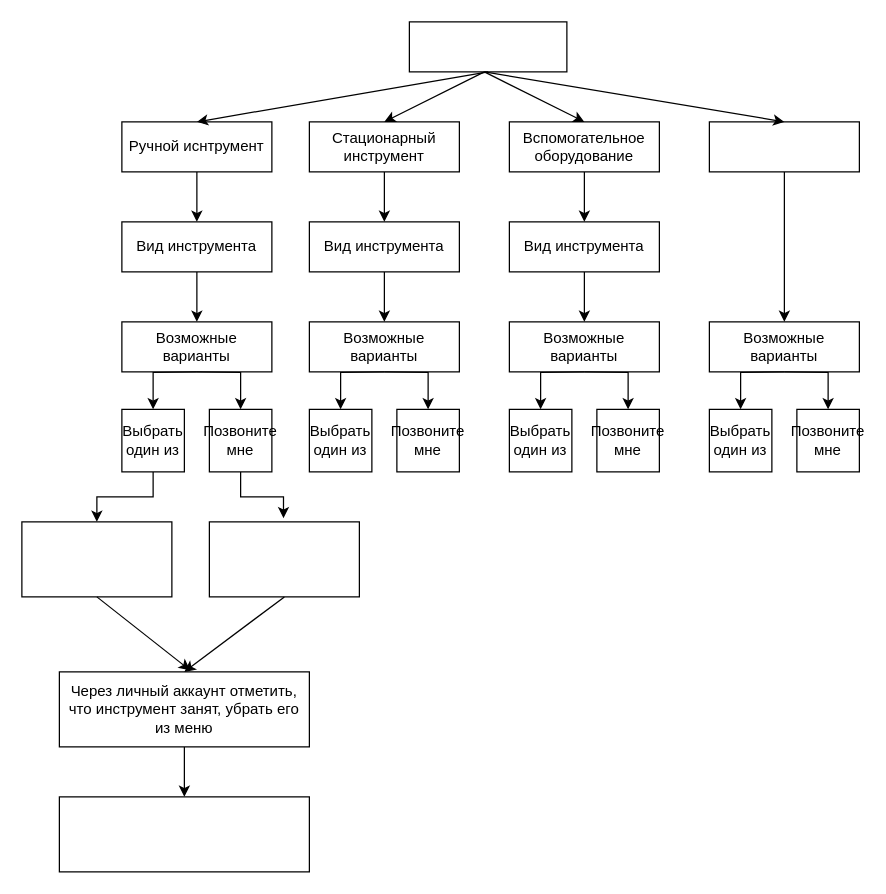
Some shapes in this 886 by 894 pixel diagram are drawn without their labels. Here are the shapes that lost their labels. From the top down, the centre of each, then its label:
point (487, 46): Приветствие, выбор группы
point (783, 146): Все инструменты
point (96, 559): Высыл данных инструмента и клиента мне
point (283, 559): Высыл данных клиента мне
point (183, 834): Через личный аккаунт отметить, что инструмент свободен, добавить его в меню
